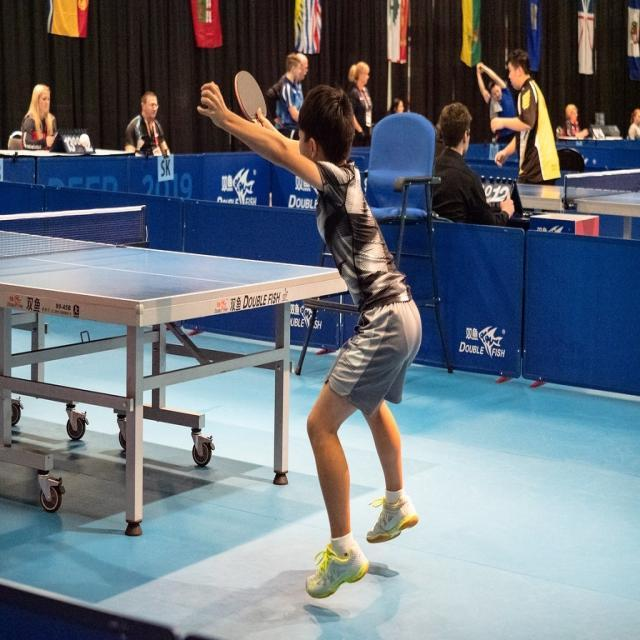TT Net: (0, 203, 147, 263)
TT Racket: (227, 61, 275, 130)
TT Table: (0, 229, 349, 301)
